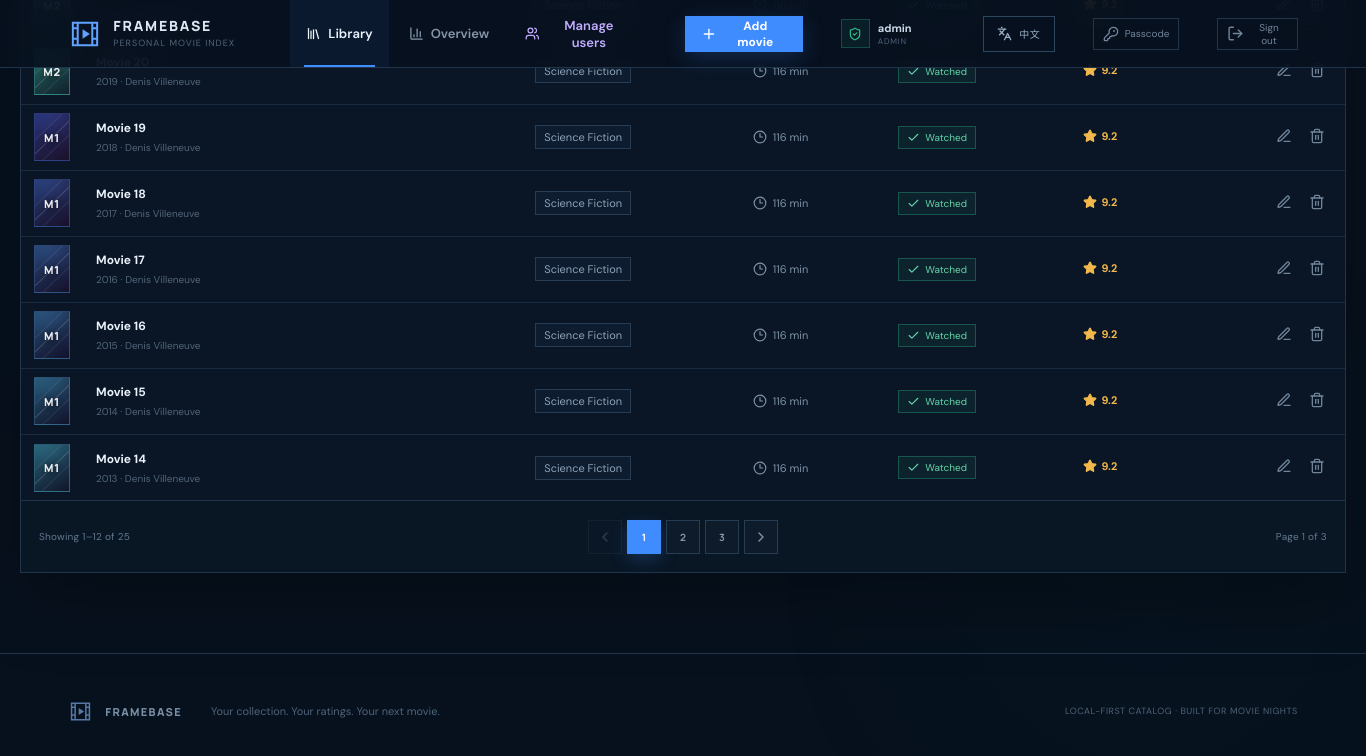
Test: App › shows twelve movies per page and resets pagination after searching
(page scrolled)
Expected: the text "Movie 13" is not shown
Expected: the text "Showing 1–12 of 25" is shown, [39,530,130,543]
Click the button named "Next page".
click(761, 537)  # box [744,520,778,554]
(page scrolled)
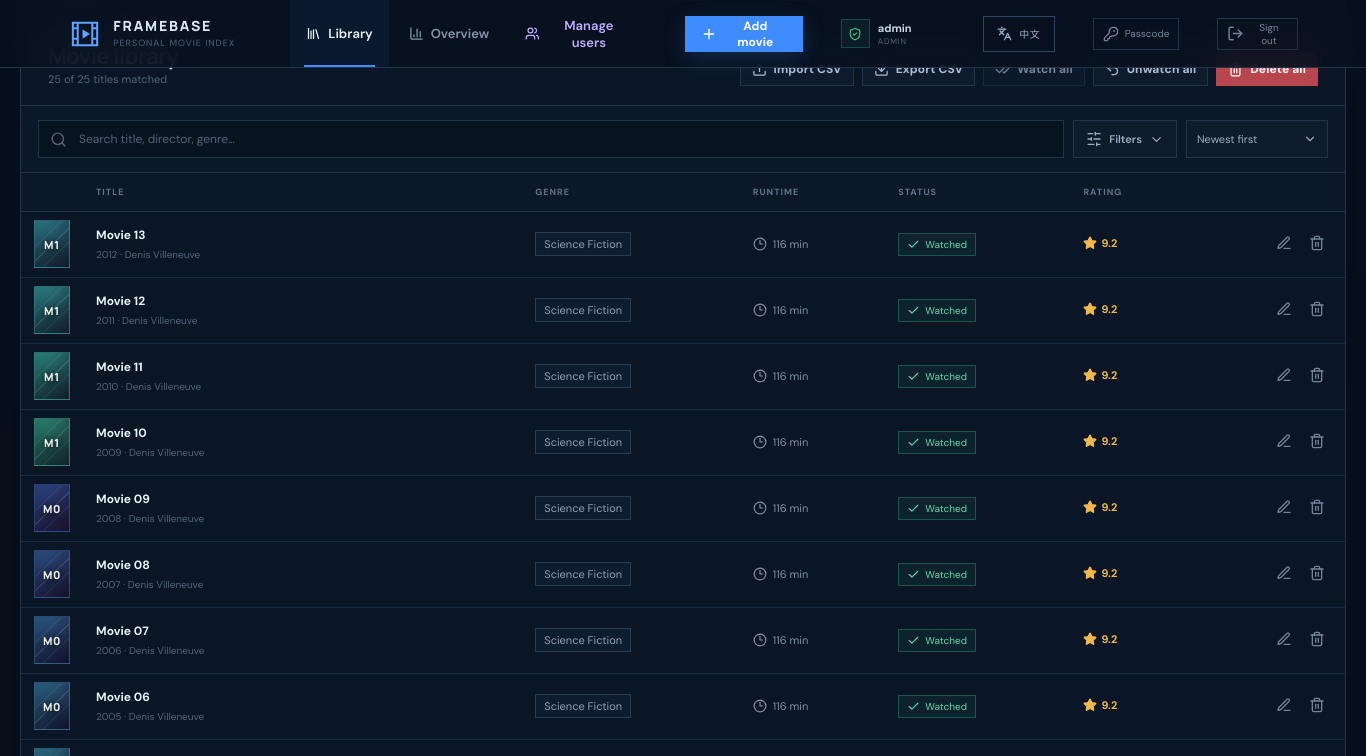
Expected: the text "Movie 13" is shown, [96,227,145,243]
Type "Movie 25" into the field named "Search library".
click(565, 139); type("Movie 25")  # box [77,130,1052,148]
(page scrolled)
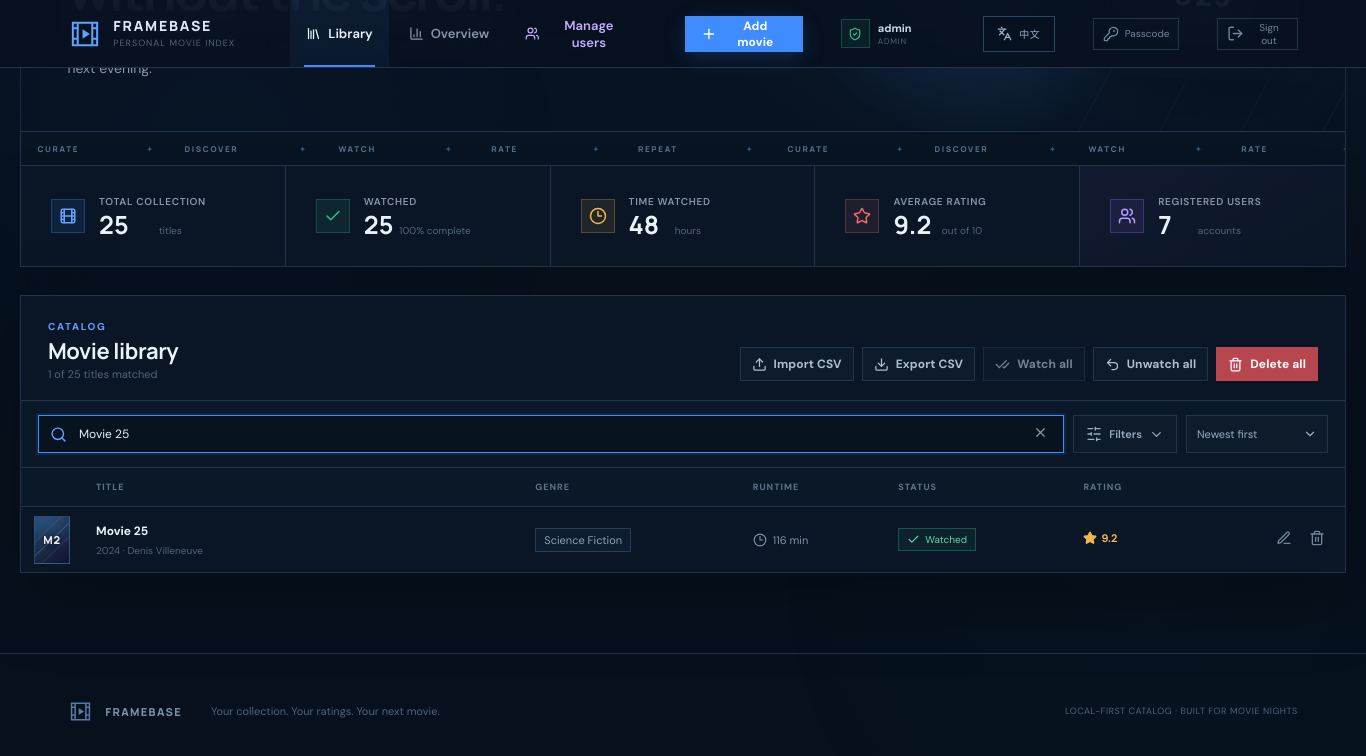
Expected: the text "Movie 25" is shown, [96,523,148,539]
